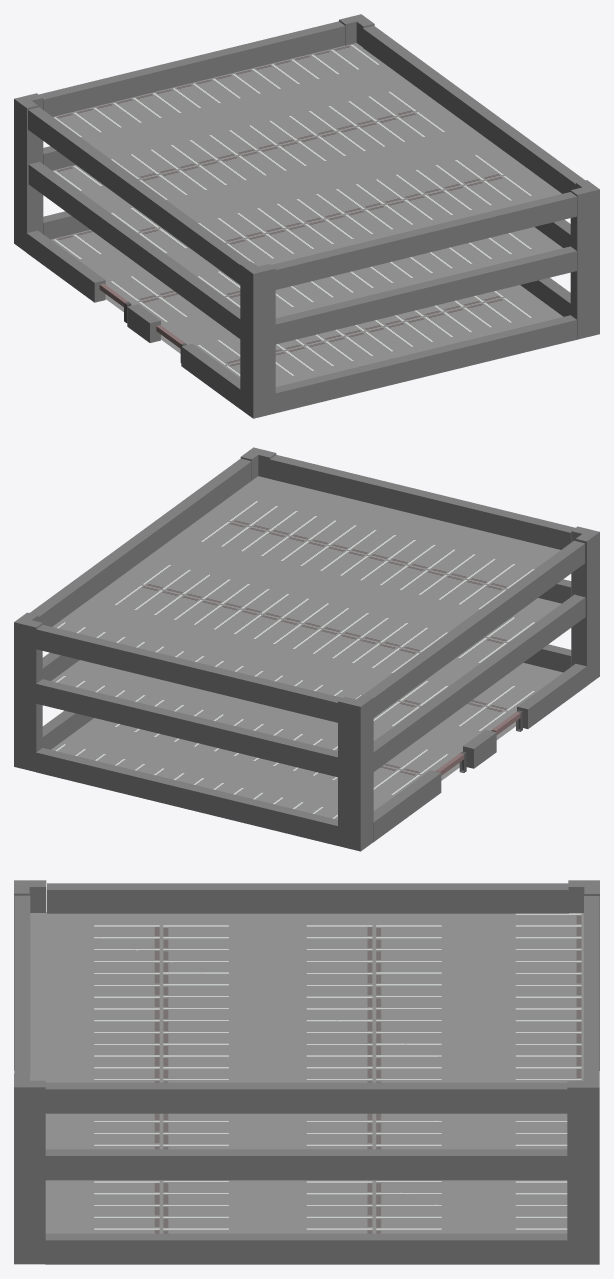
Rendered from ParkingHouse.fbx.
3 views of the same model, one above another, from view 1: azimuth 30°, elevation 25°; view 2: azimuth 150°, elevation 25°; view 3: azimuth 270°, elevation 25° (orthographic). The views are drawn at different scales.
Parts seen in each view (by area): view 1: pasted__pasted__pPlane1; view 2: pasted__pasted__pPlane1; view 3: pasted__pasted__pPlane1.
Part boxes in pixels (<box>): pasted__pasted__pPlane1: <box>14,14,599,418</box>; pasted__pasted__pPlane1: <box>14,447,599,851</box>; pasted__pasted__pPlane1: <box>14,880,599,1264</box>.
Bounding box in the file's own units: 18.26 × 7.3 × 21.8.
